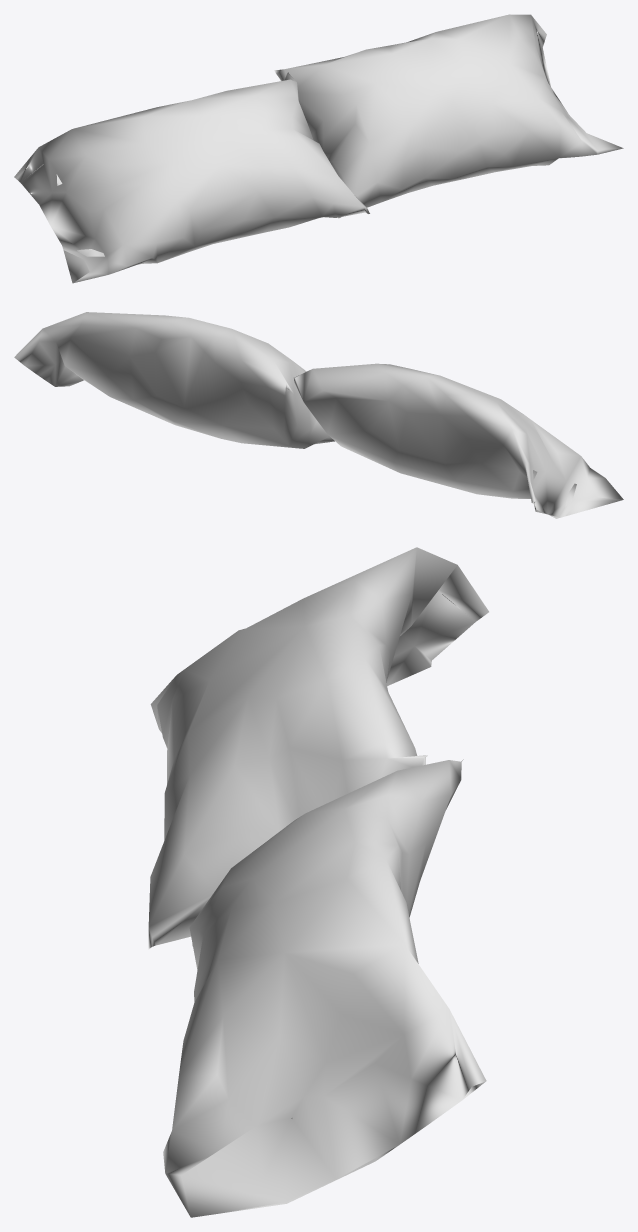
The model's file is cuishon 1.fbx.
3 renders of one model, top to bottom at view 1: azimuth 30°, elevation 25°; view 2: azimuth 150°, elevation 25°; view 3: azimuth 270°, elevation 25°, orthographic. The views are drawn at different scales.
Parts seen in each view (by area): view 1: cuishon 1; view 2: cuishon 1; view 3: cuishon 1.
Part boxes in pixels (x1,y1,x2,y2): cuishon 1: (14,14,623,283); cuishon 1: (14,312,623,518); cuishon 1: (148,547,488,1217).
Size of the model in its own units: 155 by 31.76 by 42.06.
1 material, 1 textured.
